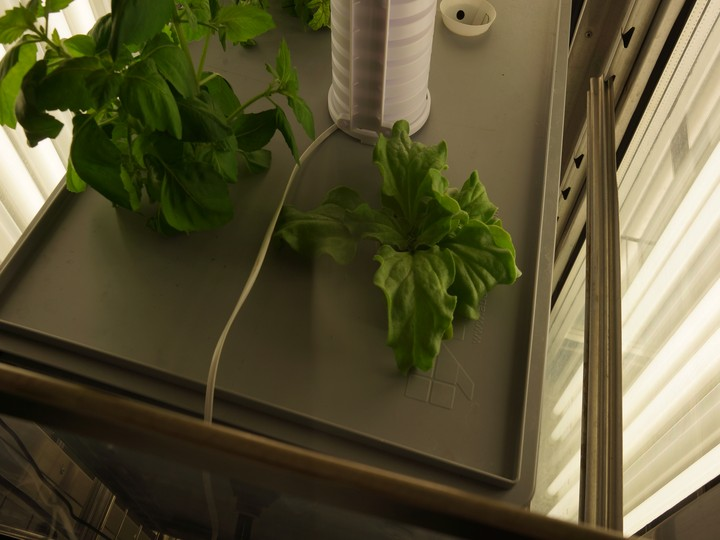basilic_blue_spice: (1, 1, 317, 242)
ficoide_glaciale: (269, 122, 544, 380)
